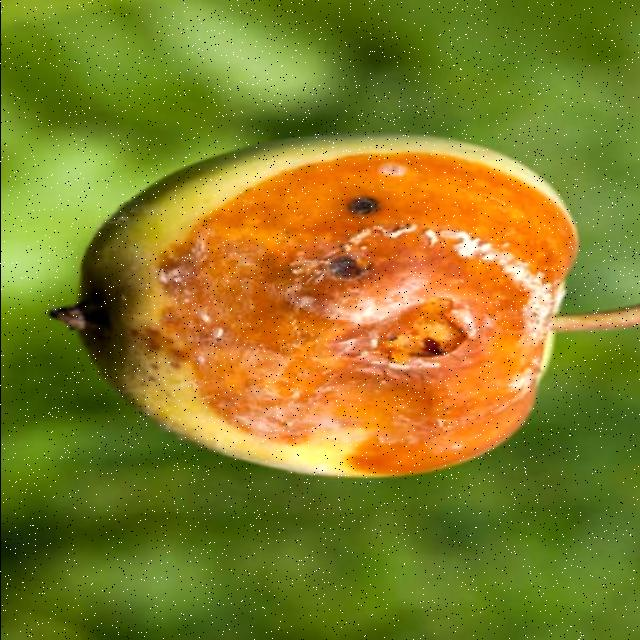ROT: (44, 128, 600, 492)
